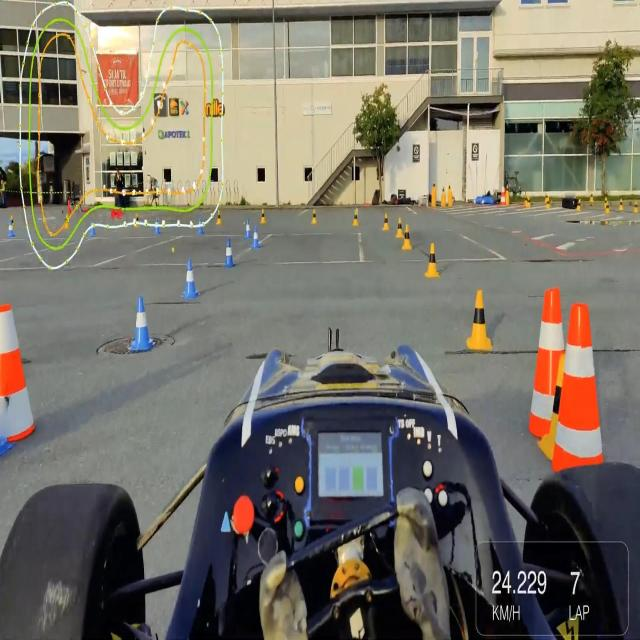blue_cone: (130, 300, 153, 357), (181, 261, 200, 303), (225, 238, 236, 268), (244, 217, 253, 240), (253, 227, 261, 250), (198, 214, 206, 237), (90, 220, 96, 237), (155, 218, 160, 236), (9, 222, 14, 238)
large_orange_cone: (552, 302, 602, 496), (528, 288, 572, 440), (0, 296, 33, 434), (500, 186, 506, 207)
yellow_cone: (538, 347, 578, 463), (467, 288, 491, 356), (427, 242, 442, 281), (394, 213, 408, 240), (402, 226, 414, 253), (351, 208, 361, 228), (383, 212, 391, 231), (312, 207, 318, 227), (8, 213, 15, 230), (216, 208, 222, 226), (63, 213, 69, 231), (260, 208, 266, 224), (134, 214, 140, 229), (633, 200, 639, 214), (576, 199, 582, 213), (604, 202, 610, 215), (618, 198, 623, 212), (604, 196, 608, 210), (546, 198, 550, 211), (545, 193, 549, 205), (441, 183, 445, 194), (432, 180, 436, 190), (448, 183, 452, 193), (505, 184, 509, 194)
